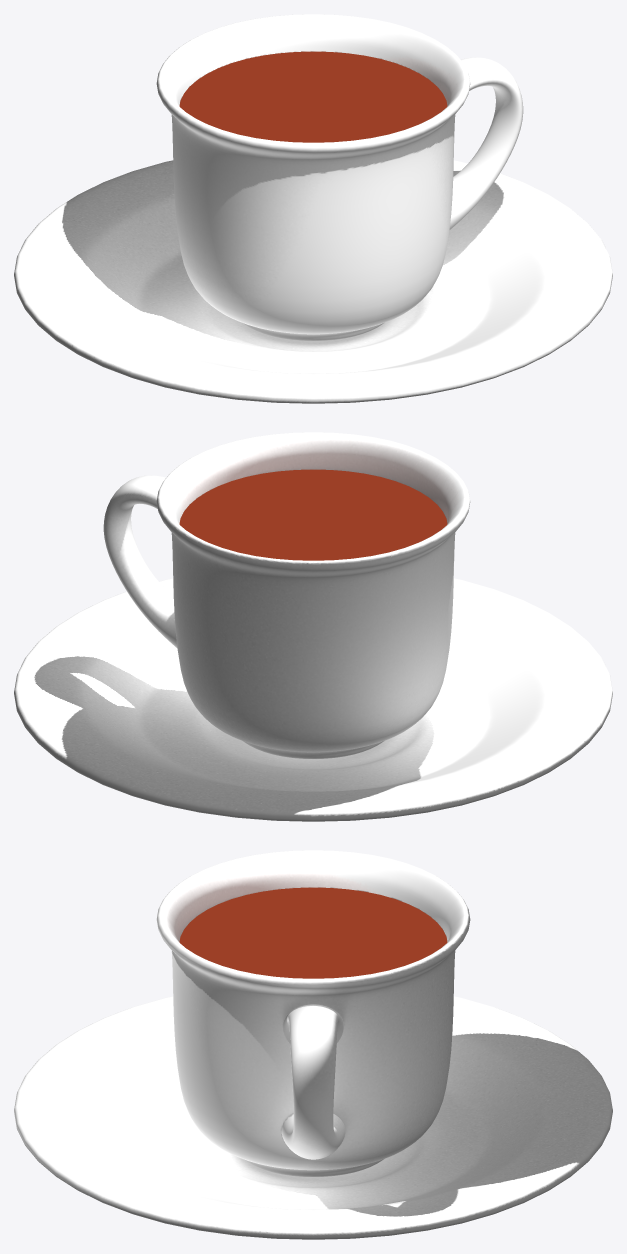
The picture shows the model from 3 angles, top to bottom: view 1: azimuth 30°, elevation 25°; view 2: azimuth 150°, elevation 25°; view 3: azimuth 270°, elevation 25°; orthographic projection.
Visible parts, largest first — view 1: cupofcoffee; view 2: cupofcoffee; view 3: cupofcoffee.
Boxes of the visible parts, bbox=[...] form: cupofcoffee: bbox=[14, 14, 612, 403]; cupofcoffee: bbox=[14, 432, 612, 821]; cupofcoffee: bbox=[14, 850, 612, 1239].
Bounding box in the file's own units: 0.1436 × 0.0677 × 0.1442.
2 materials, 1 textured.
